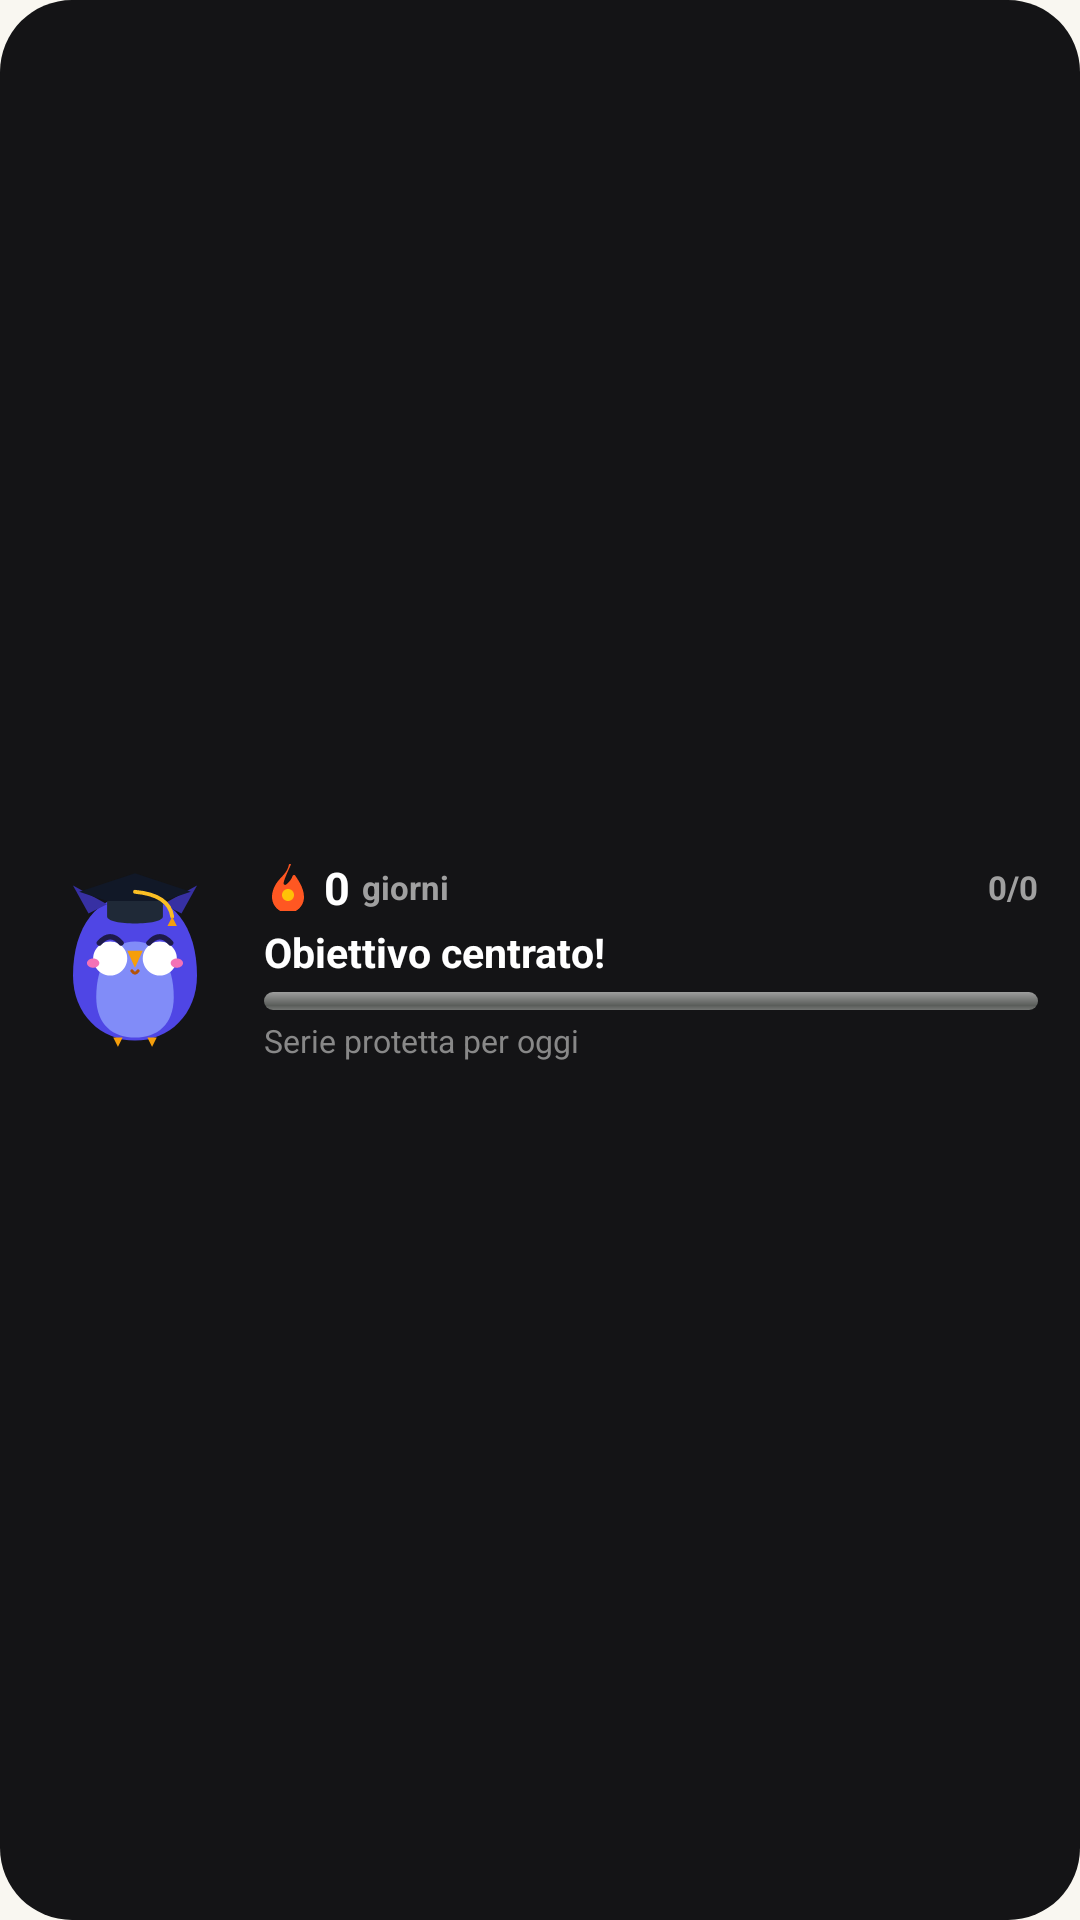

Icon click points for this 1080 x 1920 phone screenshot, format (x=x, y=y):
Icona serie: (x=288, y=887)
